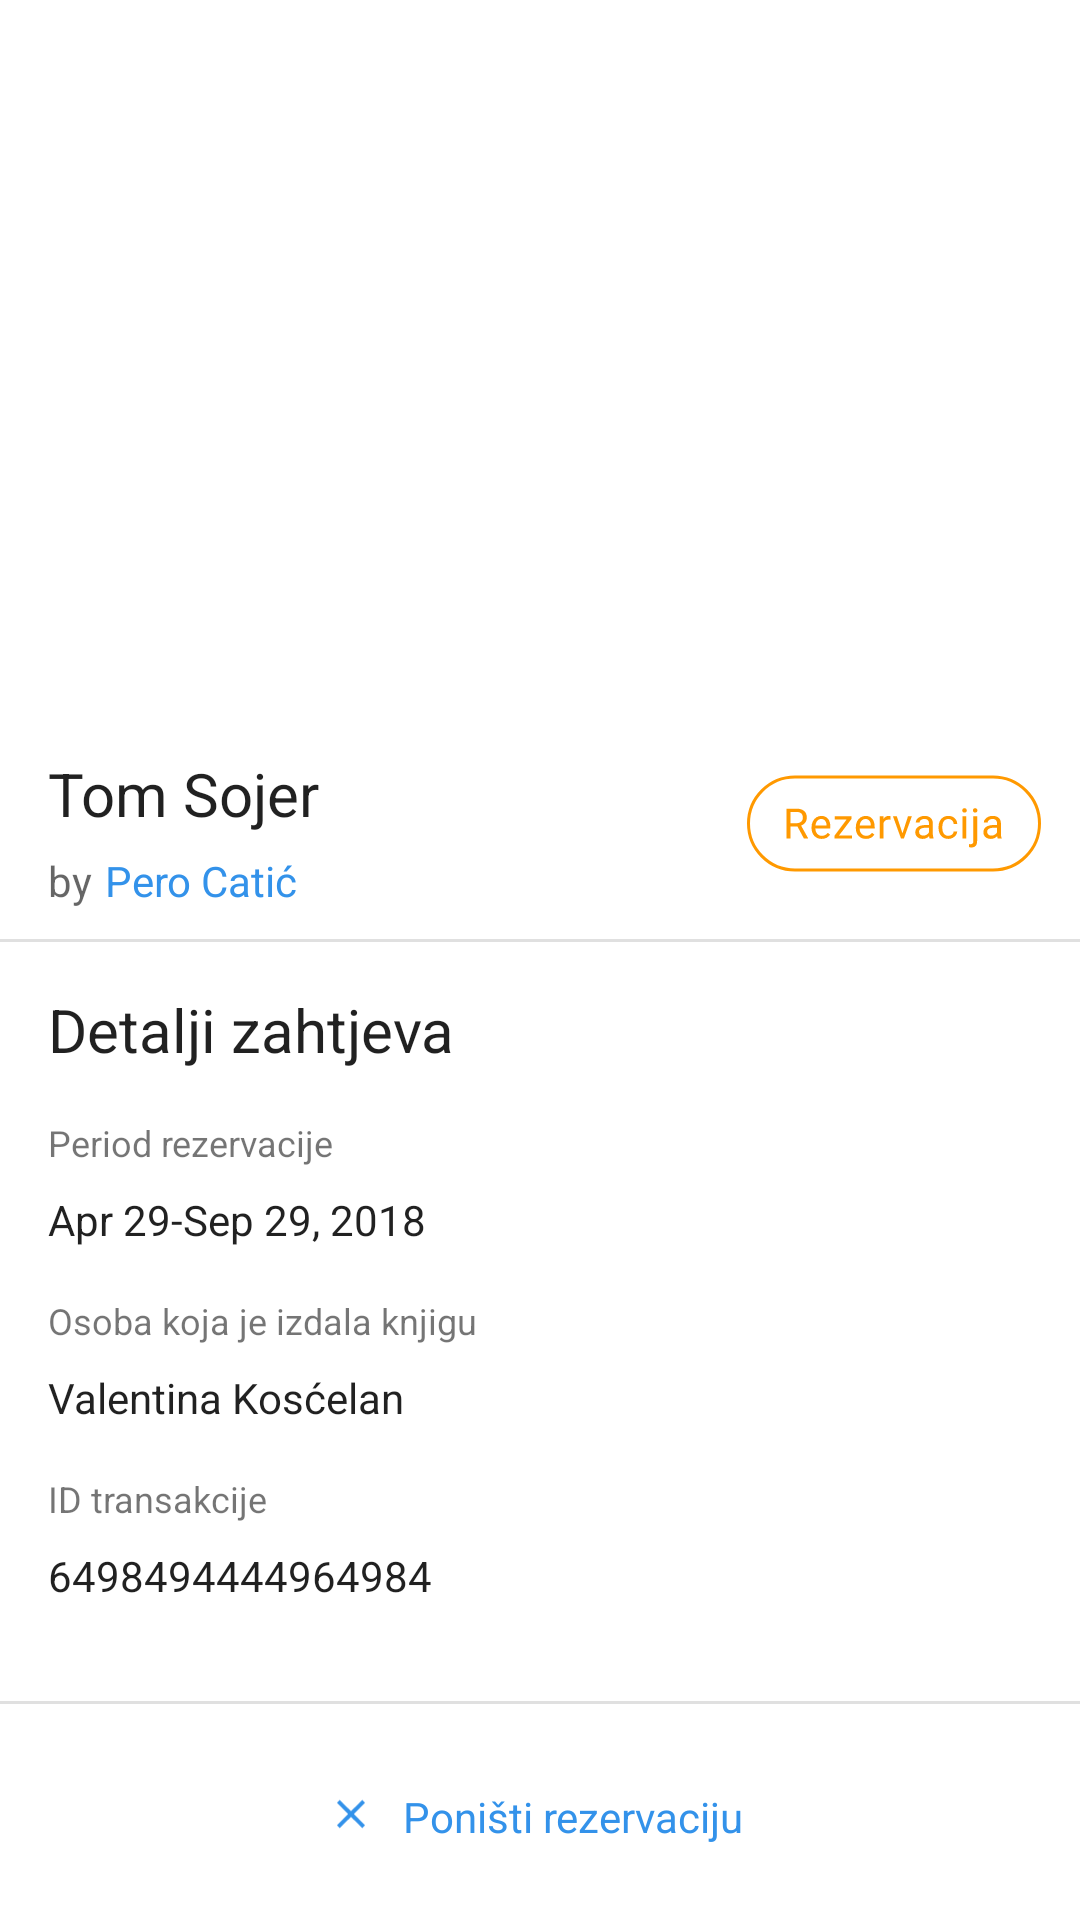

Named icons in this screenshot (1080px x 1920px) and their centers, point (x, y):
cancel reservation: point (351, 1814)
